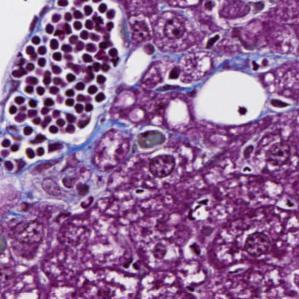inflammation: (129, 115, 172, 157)
